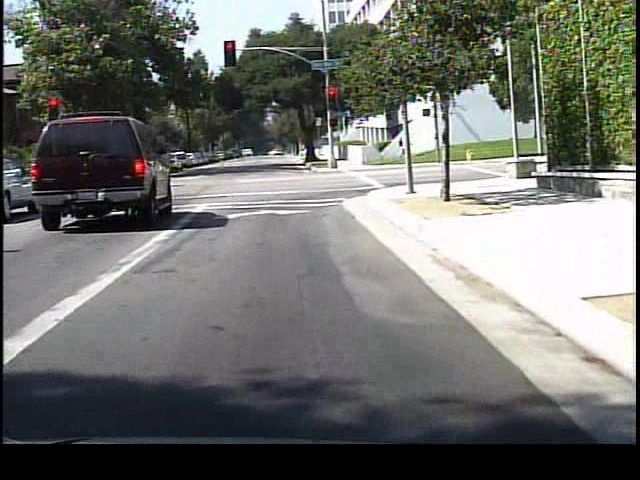person: (395, 127, 416, 167)
